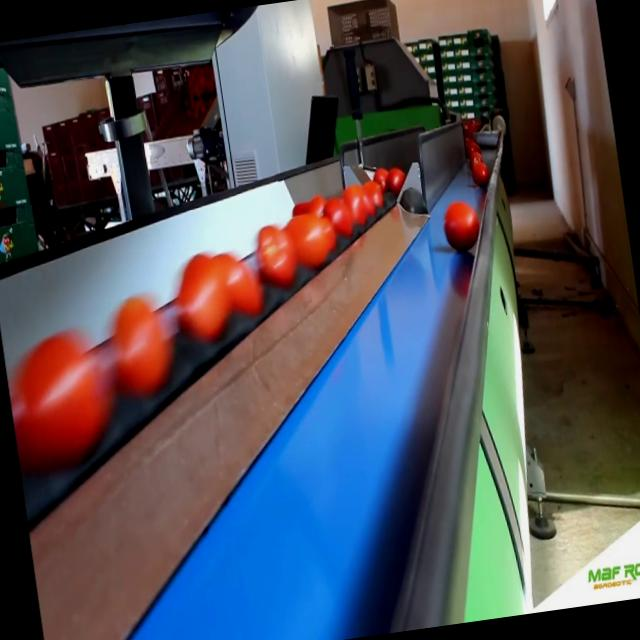Tomato: (0, 323, 119, 465), (100, 288, 175, 397), (172, 246, 234, 334), (209, 247, 266, 321), (252, 220, 300, 290), (284, 212, 333, 270), (442, 198, 484, 256), (320, 192, 354, 240), (341, 184, 368, 230), (364, 176, 384, 216), (386, 167, 406, 192), (373, 162, 388, 192), (472, 162, 491, 185), (469, 145, 482, 165)
